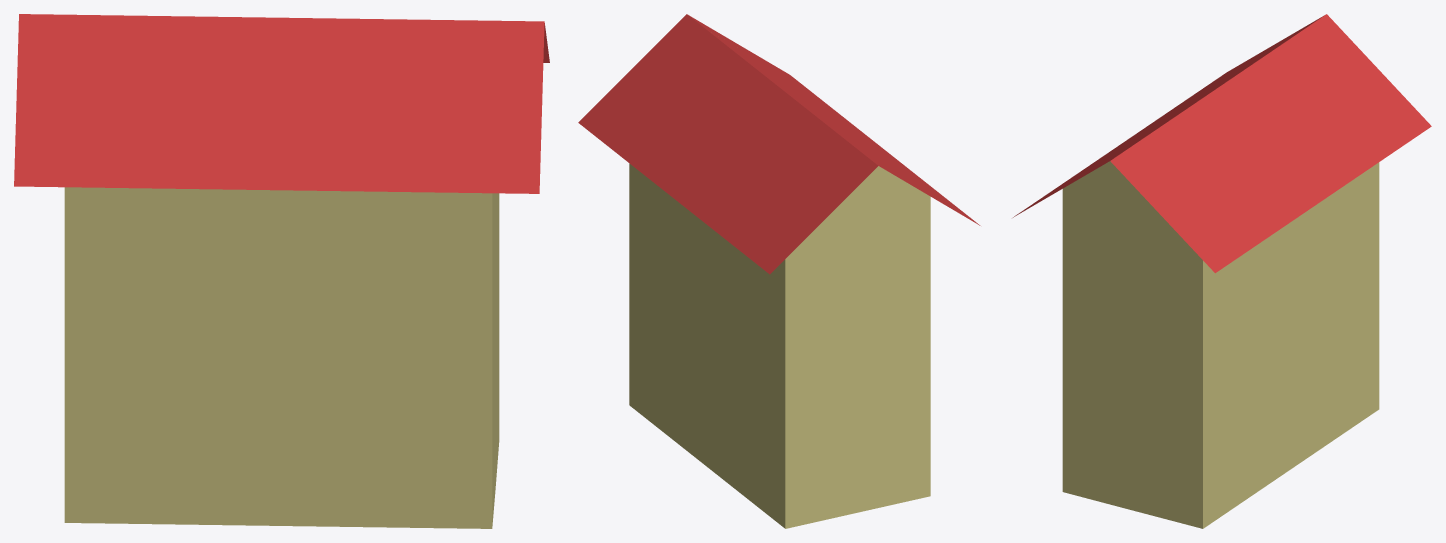
3 views of the same model, side by side, from view 1: azimuth 30°, elevation 25°; view 2: azimuth 150°, elevation 25°; view 3: azimuth 270°, elevation 25° (orthographic). The views are drawn at different scales.
Bounding box in the file's own units: 9.35 × 8.29 × 7.86.
